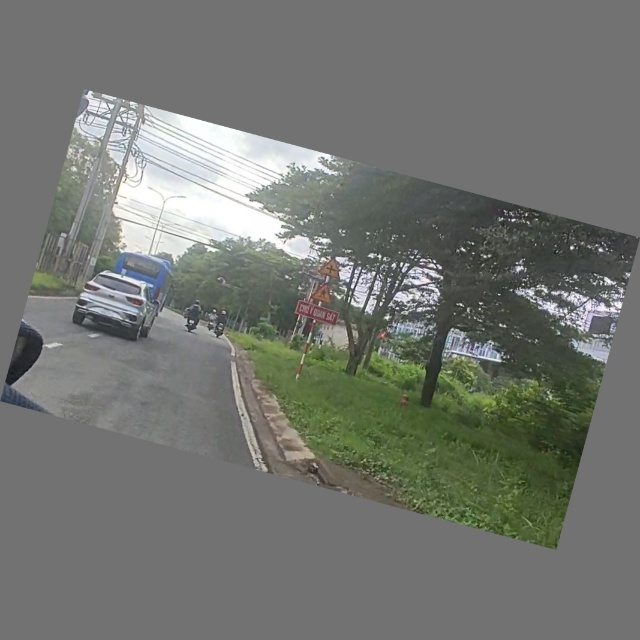W.205a: (317, 255, 348, 282)
W.224: (307, 279, 340, 306)
